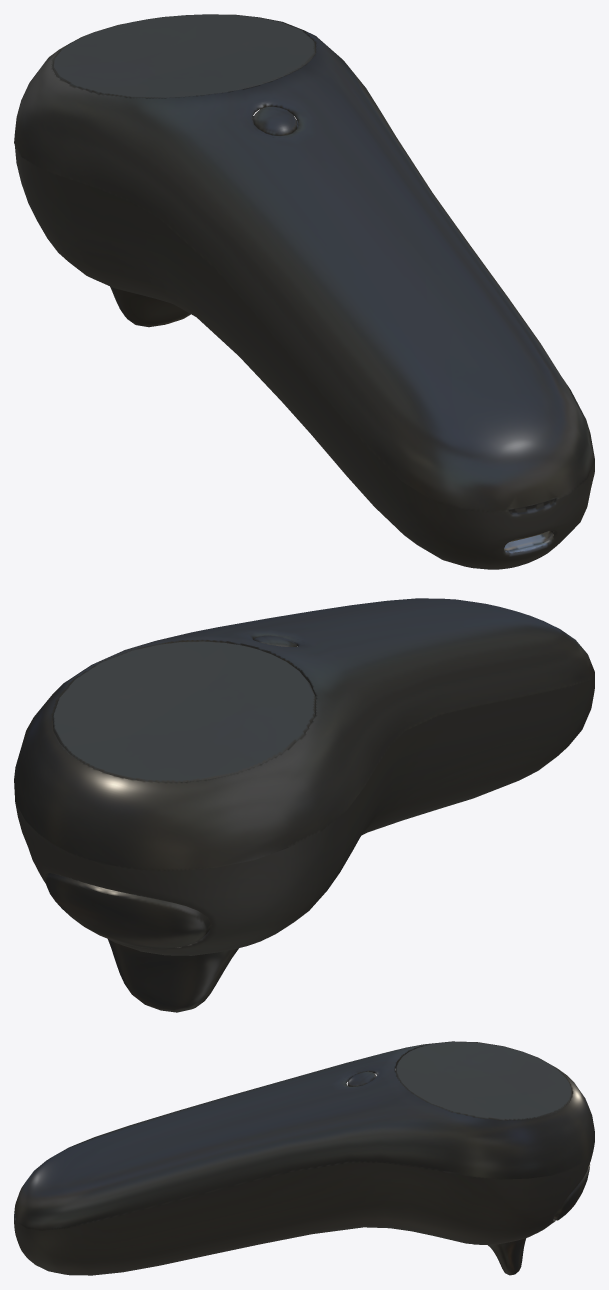
File: controller.glb
3 renders of one model, top to bottom at view 1: azimuth 30°, elevation 25°; view 2: azimuth 150°, elevation 25°; view 3: azimuth 270°, elevation 25°, orthographic. The views are drawn at different scales.
Parts seen in each view (by area): view 1: Body, TrackPad, Trigger, HomeButton; view 2: Body, TrackPad, Bumper, Trigger; view 3: Body, TrackPad, Trigger, Bumper.
Part boxes in pixels (x1,y1,x2,y2): Body: (14, 14, 594, 569); TrackPad: (52, 14, 315, 98); Trigger: (110, 286, 190, 327); HomeButton: (253, 106, 298, 135); Body: (14, 598, 594, 955); TrackPad: (52, 641, 315, 782); Bumper: (46, 873, 210, 948); Trigger: (108, 939, 238, 1012); Body: (14, 1041, 594, 1275); TrackPad: (395, 1041, 572, 1120); Trigger: (488, 1238, 526, 1275); Bumper: (553, 1164, 589, 1220).
Bounding box in the file's own units: 0.0496 × 0.0465 × 0.1213.
2 materials, 2 textured.
